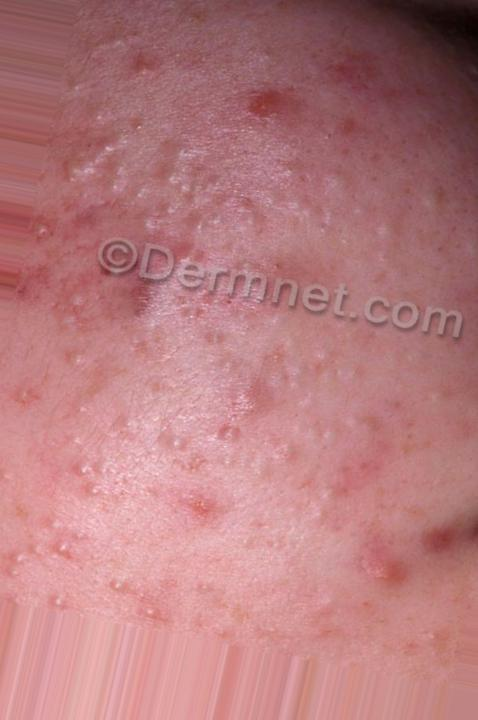Acne: (55, 133, 184, 225), (401, 457, 478, 572), (113, 253, 200, 338), (305, 43, 388, 128), (351, 537, 439, 617), (43, 437, 124, 520), (213, 371, 291, 441), (155, 489, 239, 540), (121, 29, 178, 104), (237, 79, 302, 142)
